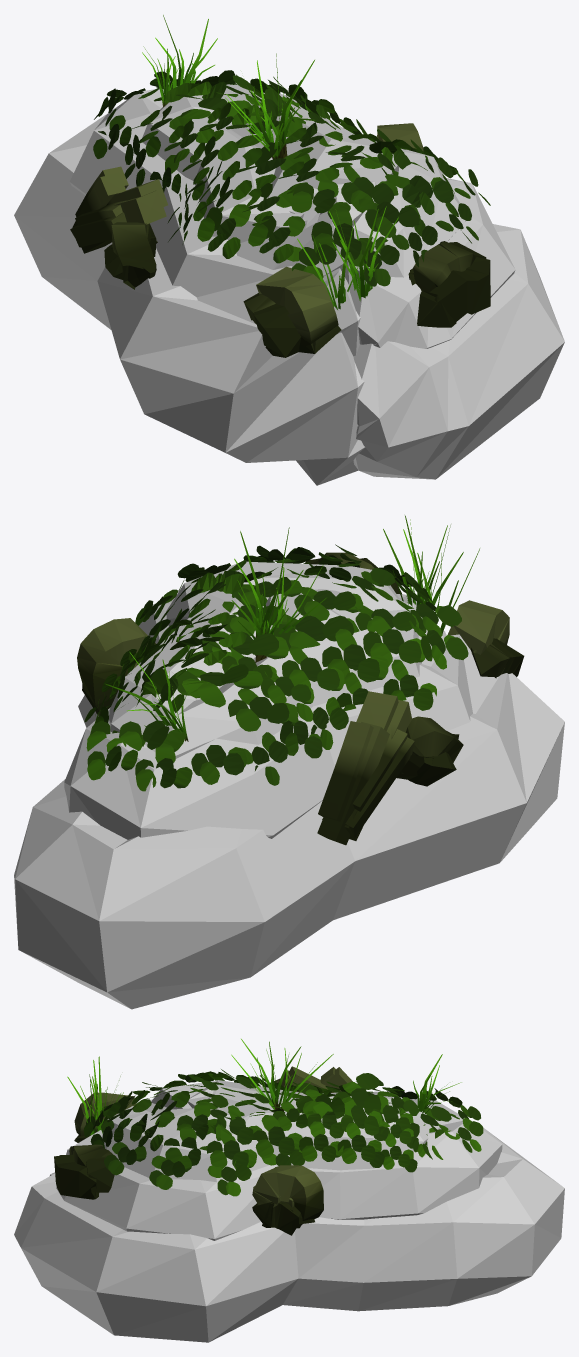
Rendered from Island1.fbx.
The picture shows the model from 3 angles, top to bottom: view 1: azimuth 30°, elevation 25°; view 2: azimuth 150°, elevation 25°; view 3: azimuth 270°, elevation 25°; orthographic projection. The views are drawn at different scales.
Parts seen in each view (by area): view 1: Base1, Moss1, Rocks1, Grasslet1; view 2: Base1, Moss1, Rocks1, Grasslet1; view 3: Base1, Moss1, Rocks1, Grasslet1.
Part boxes in pixels (x1,y1,x2,y2): Base1: (14,84,564,485); Moss1: (93,70,490,286); Rocks1: (70,123,490,357); Grasslet1: (142,15,398,309); Base1: (14,561,564,1009); Moss1: (84,544,468,791); Rocks1: (77,552,524,845); Grasslet1: (105,515,479,741); Base1: (14,1080,564,1342); Moss1: (83,1069,483,1196); Rocks1: (54,1066,352,1235); Grasslet1: (67,1039,461,1135).
Bounding box in the file's own units: 18.08 × 13.58 × 26.22.
